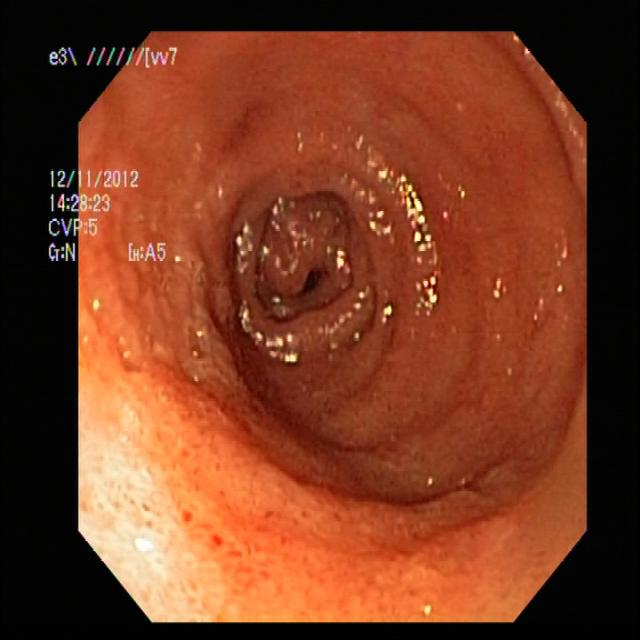ulcerative-colities: (217, 184, 413, 369), (118, 454, 262, 601)
